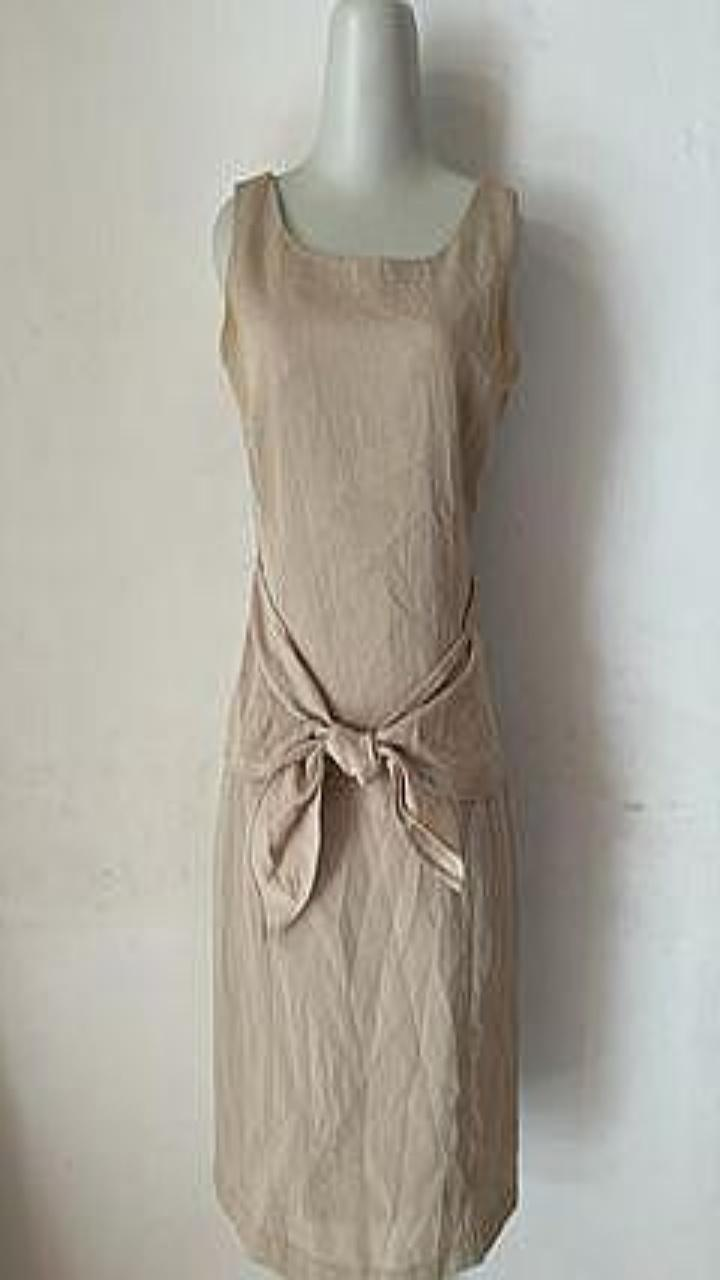Dresses: (213, 171, 519, 1279)
